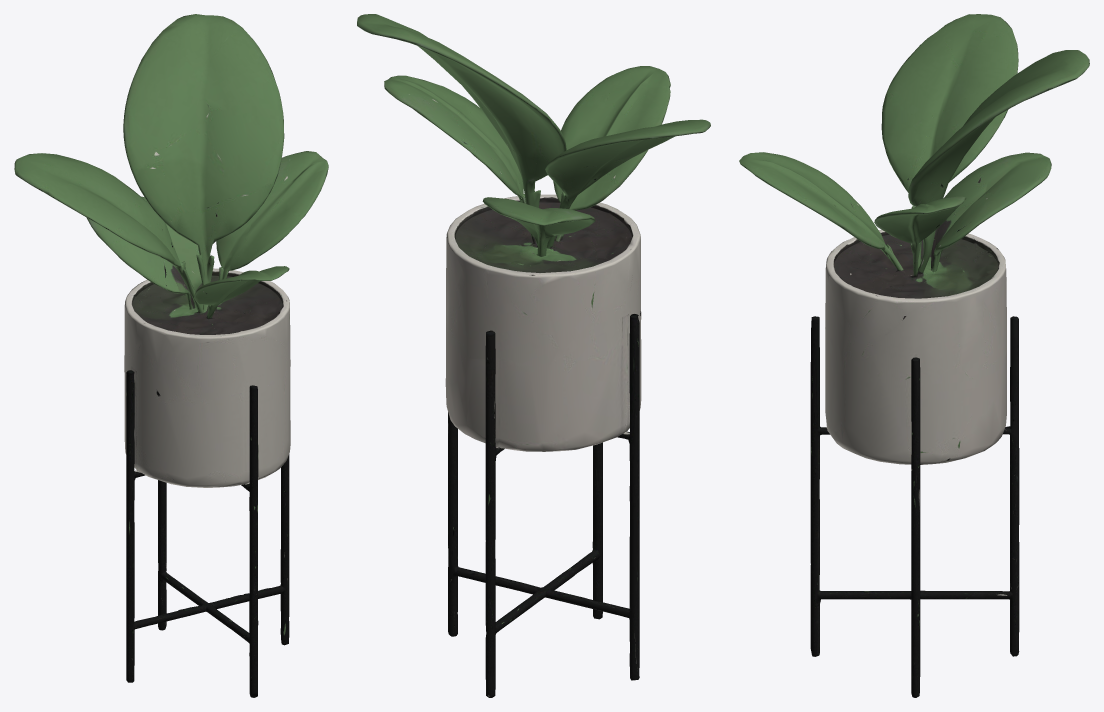
File: rubber-plant-stand.glb
The picture shows the model from 3 angles, left to right: view 1: azimuth 30°, elevation 25°; view 2: azimuth 150°, elevation 25°; view 3: azimuth 270°, elevation 25°; orthographic projection. The views are drawn at different scales.
Size of the model in its own units: 1 by 1.9 by 0.9633.
Materials: 1 (1 with a texture image).
